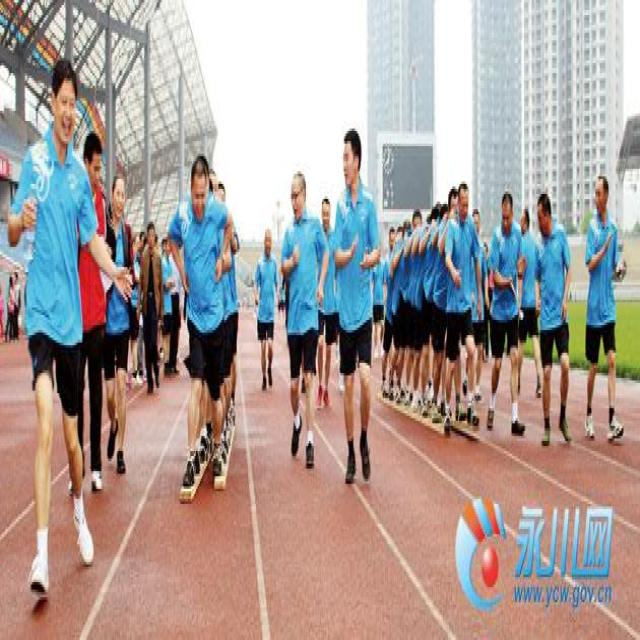non-fight: (19, 93, 105, 612), (173, 148, 240, 502), (327, 128, 381, 489), (279, 166, 328, 476), (430, 179, 484, 433), (580, 169, 624, 443), (479, 186, 525, 436), (528, 189, 573, 443)
